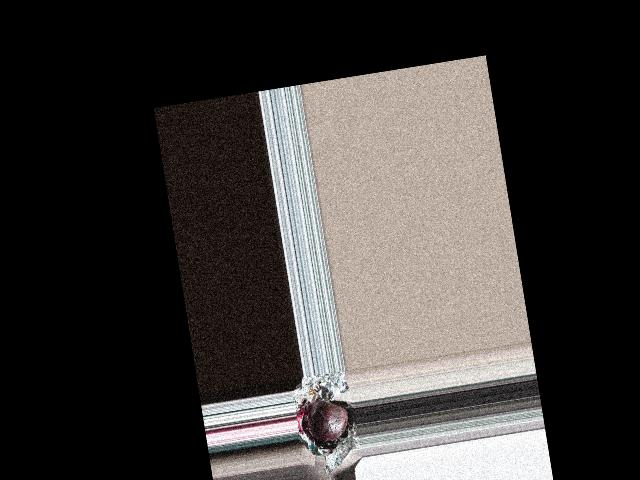beet: (305, 395, 351, 443)
